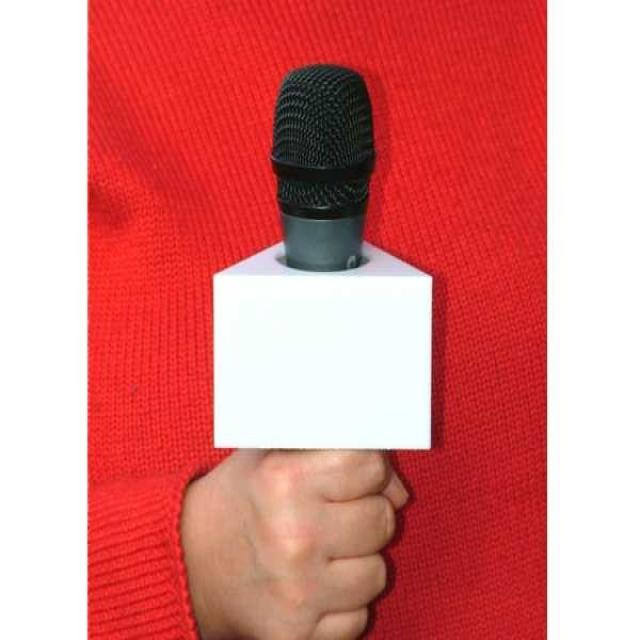microphone: (209, 63, 438, 455)
